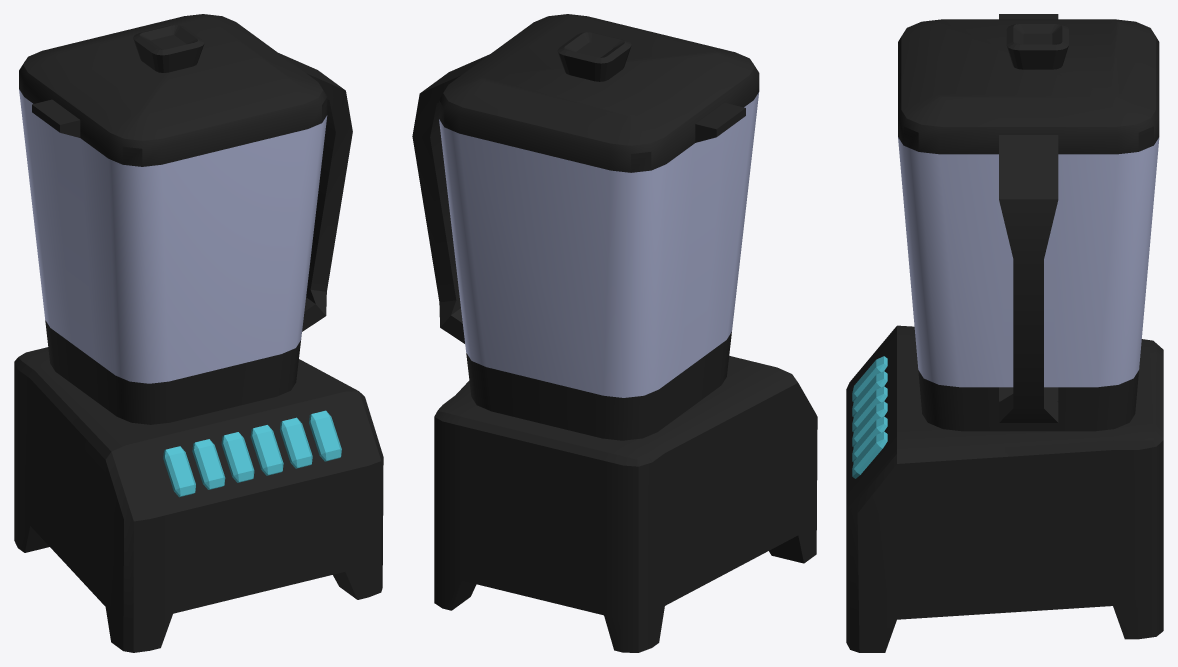
Rendered from blender.fbx.
The picture shows the model from 3 angles, left to right: view 1: azimuth 30°, elevation 25°; view 2: azimuth 150°, elevation 25°; view 3: azimuth 270°, elevation 25°; orthographic projection. The views are drawn at different scales.
Visible parts, largest first — view 1: Blender; view 2: Blender; view 3: Blender.
Part boxes in pixels (<box>): Blender: <box>14,14,383,652</box>; Blender: <box>412,14,817,652</box>; Blender: <box>846,14,1163,652</box>.
Size of the model in its own units: 20.46 by 17.56 by 33.66.
